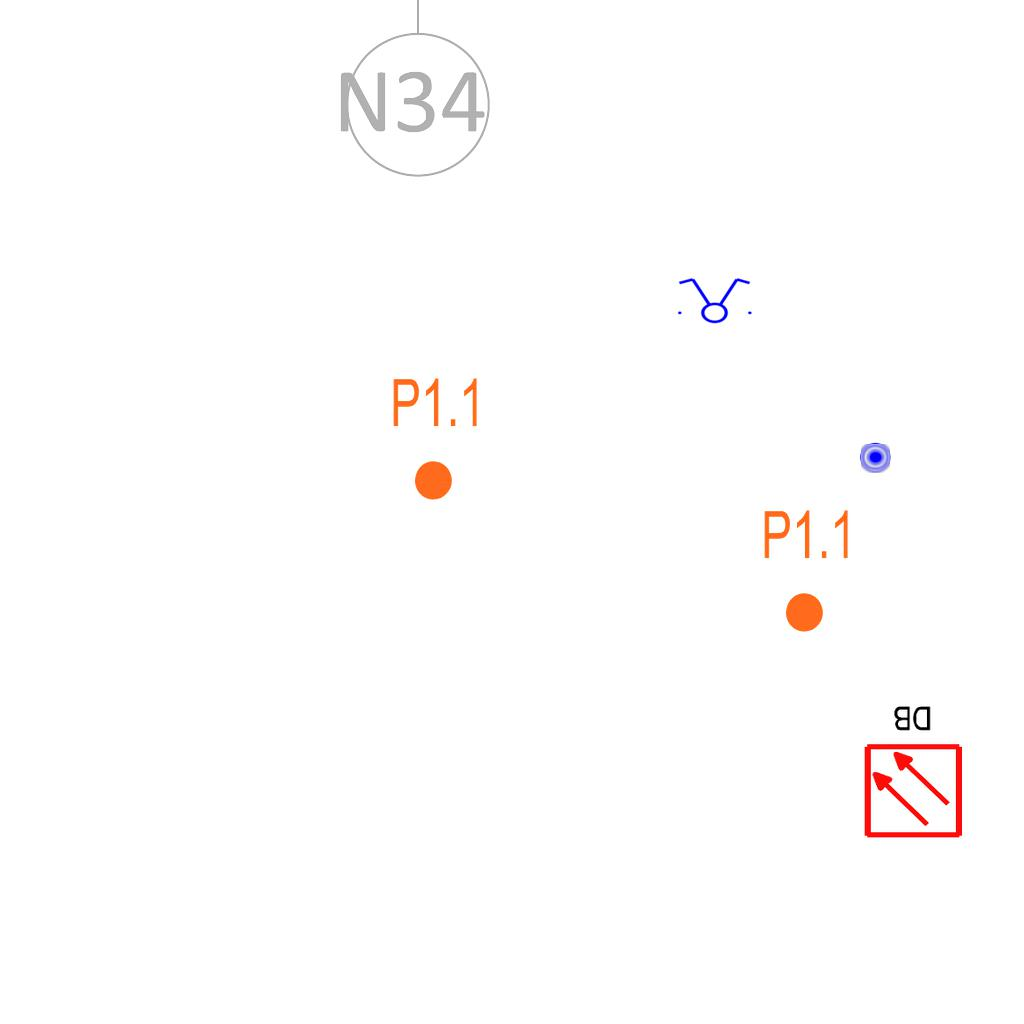DB_Melder_in_Doppelboden_mit_Revisionsoeffnung_mind_40_x_40_cm: (855, 696, 969, 845)
Downlight_LED_Einbauleuchten_Flur_2: (390, 375, 483, 503), (761, 507, 854, 635)
Serienschalter: (672, 276, 756, 324)
Taster: (859, 442, 892, 475)
